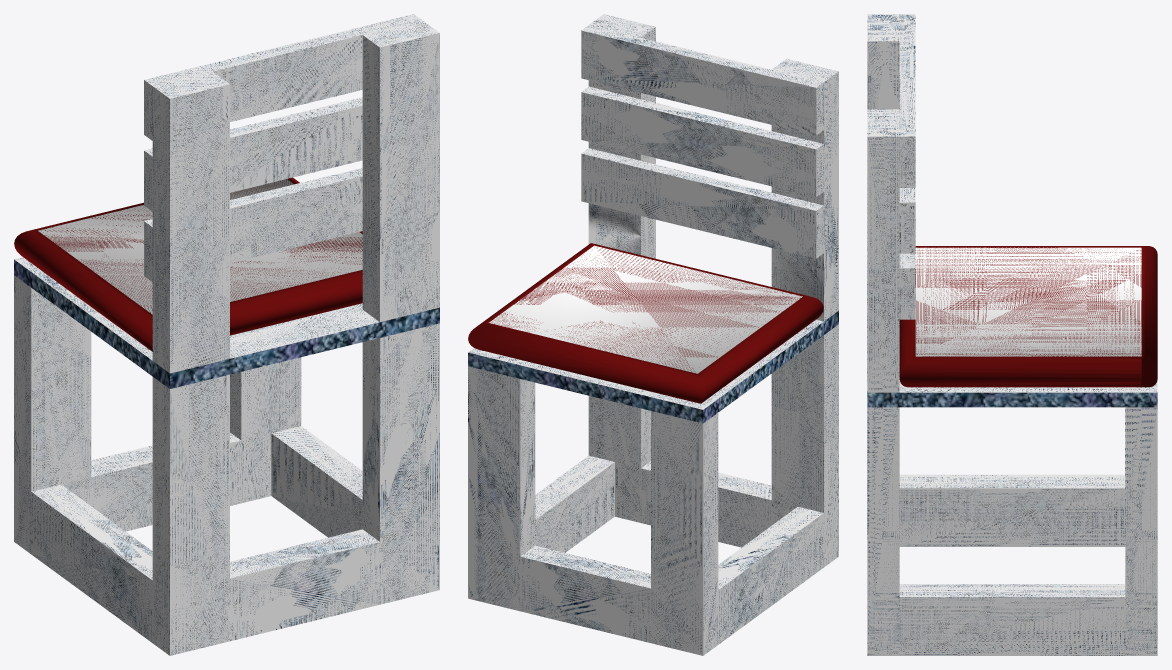
3 views of the same model, side by side, from view 1: azimuth 30°, elevation 25°; view 2: azimuth 150°, elevation 25°; view 3: azimuth 270°, elevation 25° (orthographic). The views are drawn at different scales.
Parts seen in each view (by area): view 1: mesh1_mesh1-geometry; view 2: mesh1_mesh1-geometry; view 3: mesh1_mesh1-geometry.
Boxes of the visible parts, x1,y1,x2,y2 form: mesh1_mesh1-geometry: [14, 14, 439, 655]; mesh1_mesh1-geometry: [468, 14, 838, 655]; mesh1_mesh1-geometry: [867, 14, 1157, 655].
Size of the model in its own units: 0.4121 by 0.8127 by 0.4121.
